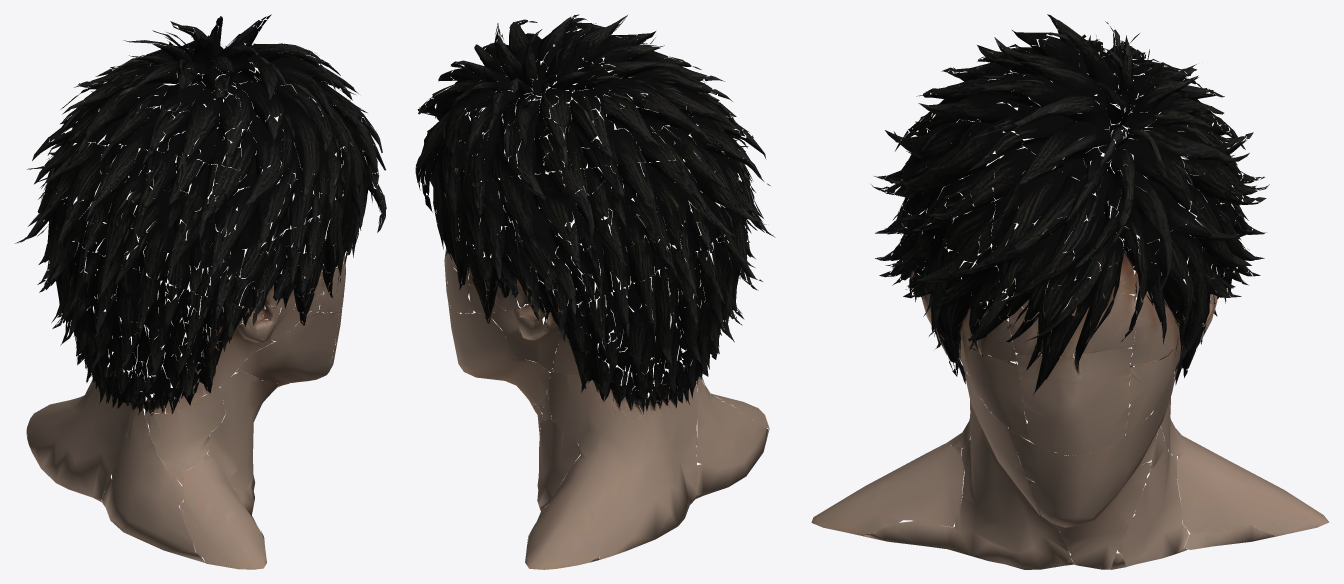
The model's file is hair_kain.glb.
The picture shows the model from 3 angles, left to right: view 1: azimuth 30°, elevation 25°; view 2: azimuth 150°, elevation 25°; view 3: azimuth 270°, elevation 25°; orthographic projection. The views are drawn at different scales.
Parts seen in each view (by area): view 1: tripo_node_c02b9c1e-c4f9-48d9-895f-da1fe8f9ecfd; view 2: tripo_node_c02b9c1e-c4f9-48d9-895f-da1fe8f9ecfd; view 3: tripo_node_c02b9c1e-c4f9-48d9-895f-da1fe8f9ecfd.
Boxes of the visible parts, bbox=[...] form: tripo_node_c02b9c1e-c4f9-48d9-895f-da1fe8f9ecfd: bbox=[15, 14, 386, 569]; tripo_node_c02b9c1e-c4f9-48d9-895f-da1fe8f9ecfd: bbox=[415, 14, 775, 569]; tripo_node_c02b9c1e-c4f9-48d9-895f-da1fe8f9ecfd: bbox=[811, 14, 1329, 569].
Bounding box in the file's own units: 0.7684 × 0.9776 × 0.8771.
Materials: 1 (1 with a texture image).
